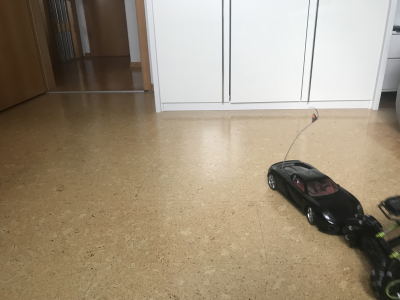remote control car: (347, 185, 400, 300)
